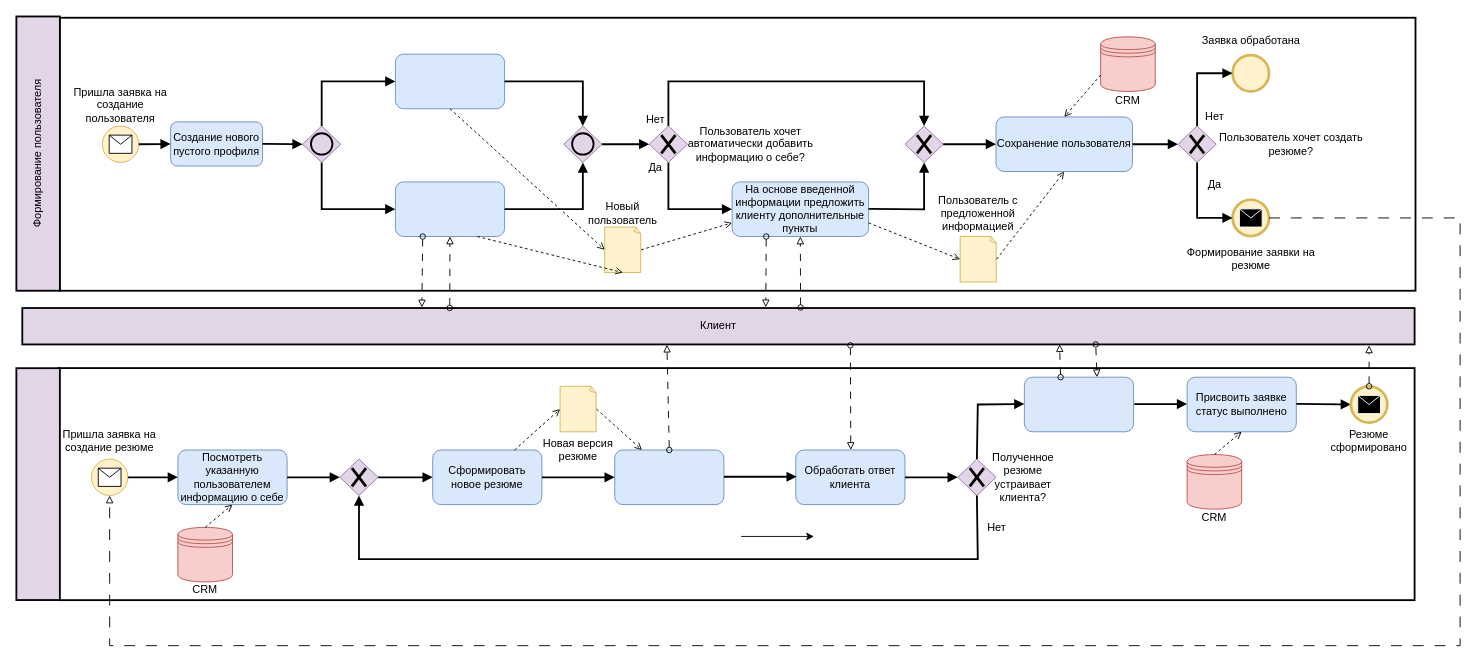
Some shapes in this 1483 by 669 pixel diagram are drawn without their labels. The shapes that lost their labels are listed below. From the top down, each one's centre as x and y in pixels, then its label:
[449,81]: Экспортировать информацию о пользователе из других источников
[449,209]: Запросить информацию у клиента
[1078,404]: Отправить сформированное резюме клиенту и получить отзыв
[37,484]: Формирование резюме
[669,477]: Отправить клиенту версию резюме
